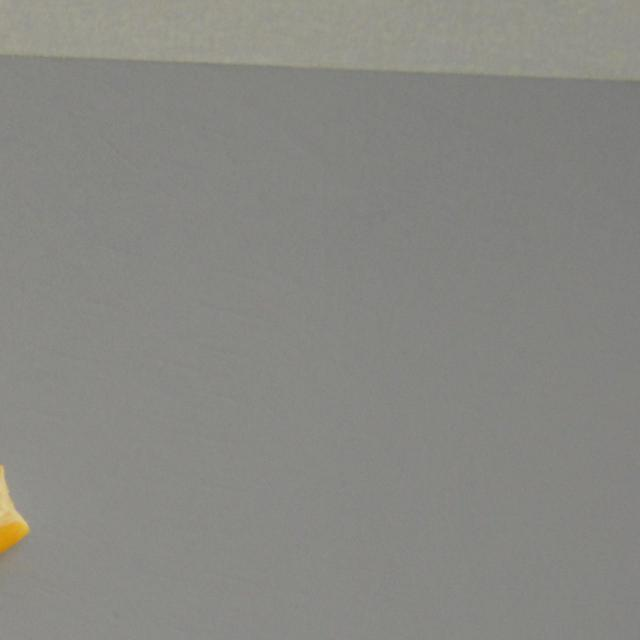dañado: (0, 457, 31, 578)
